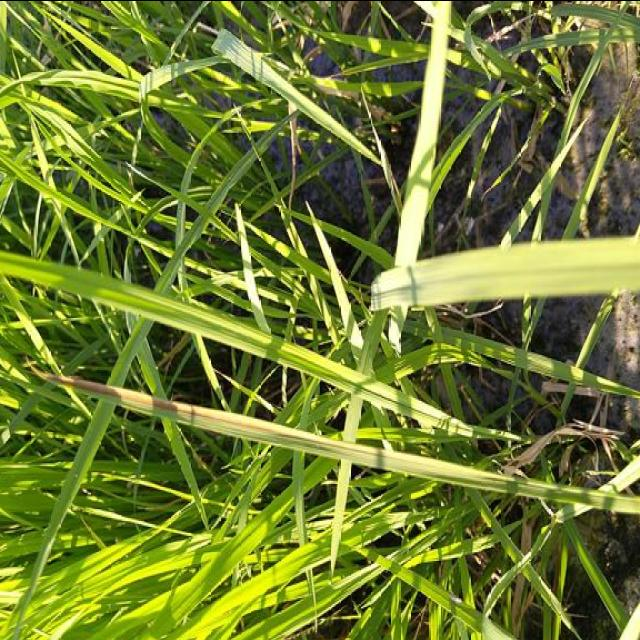Leaf Streak: (29, 363, 356, 456)
